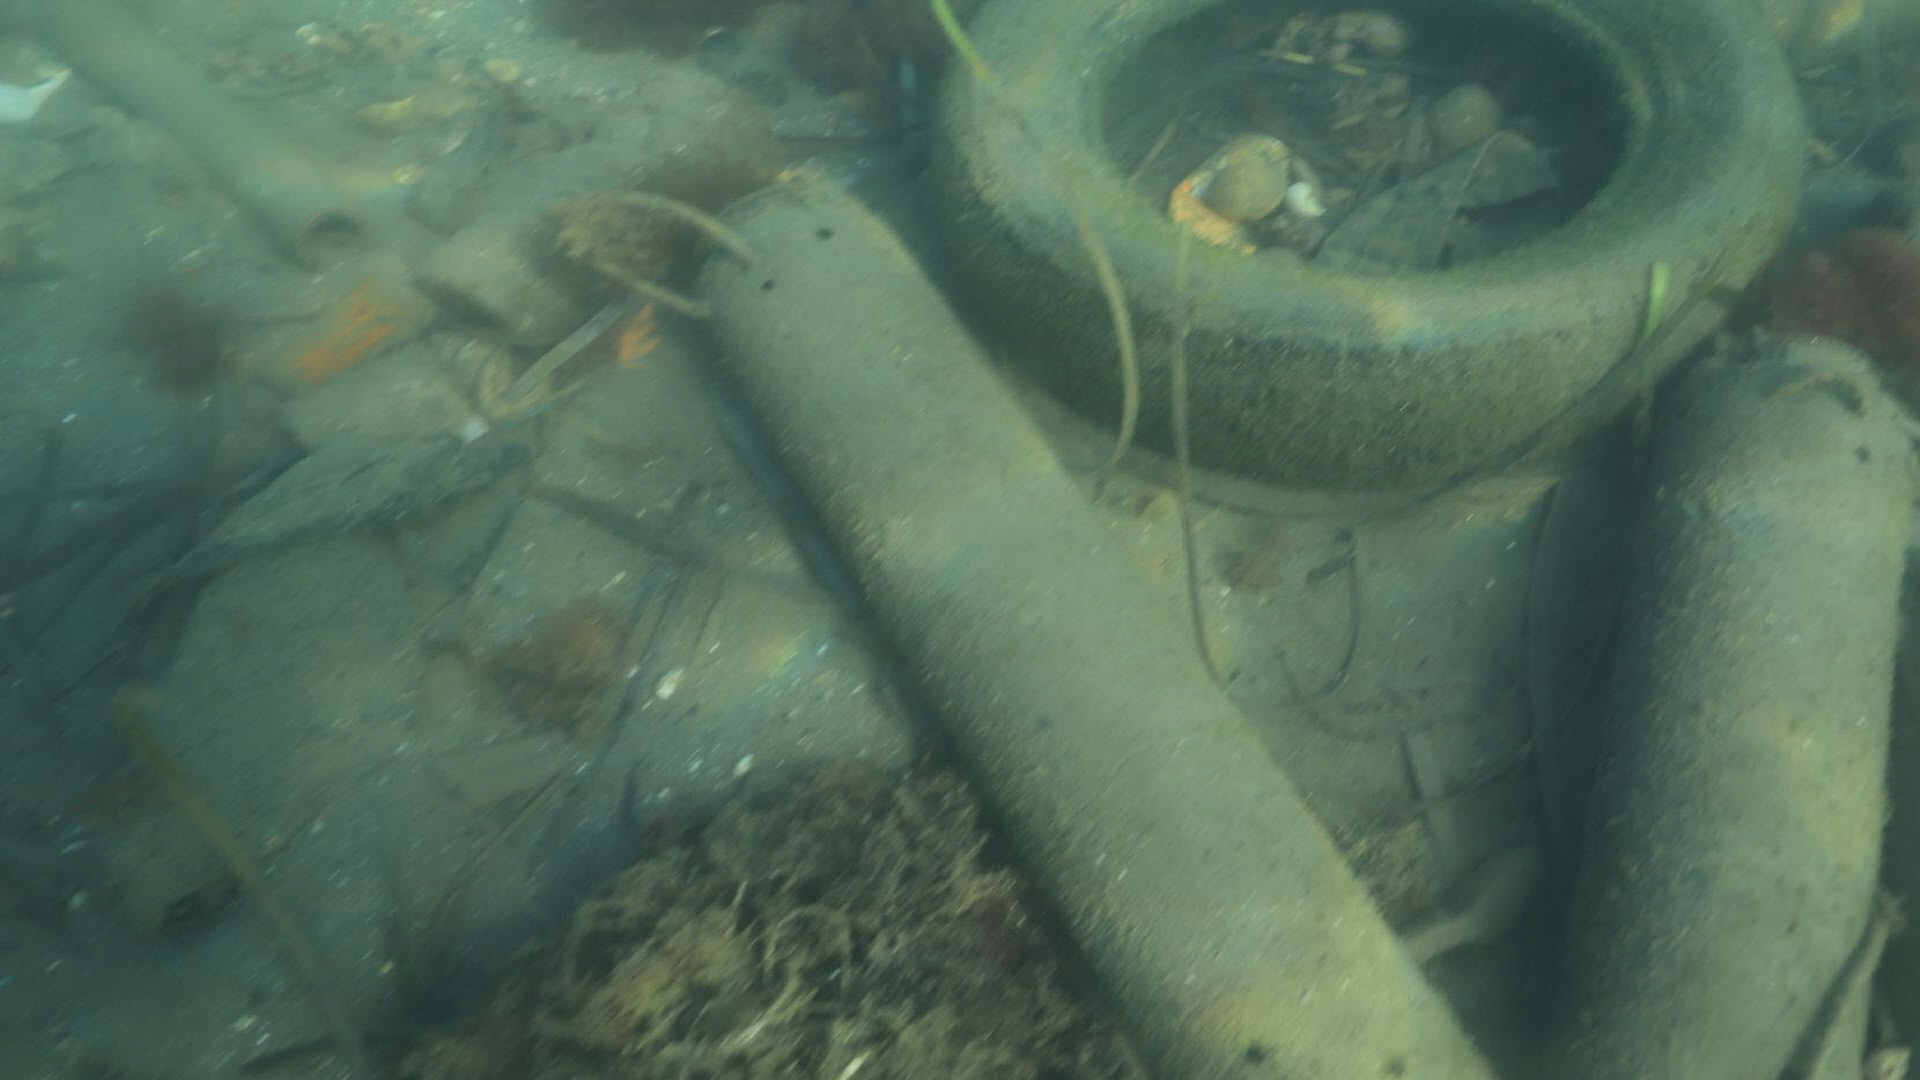eel fish trap: (676, 169, 1494, 1080), (1544, 334, 1920, 1080)
rope: (560, 189, 756, 319)
tire: (914, 0, 1807, 495)
